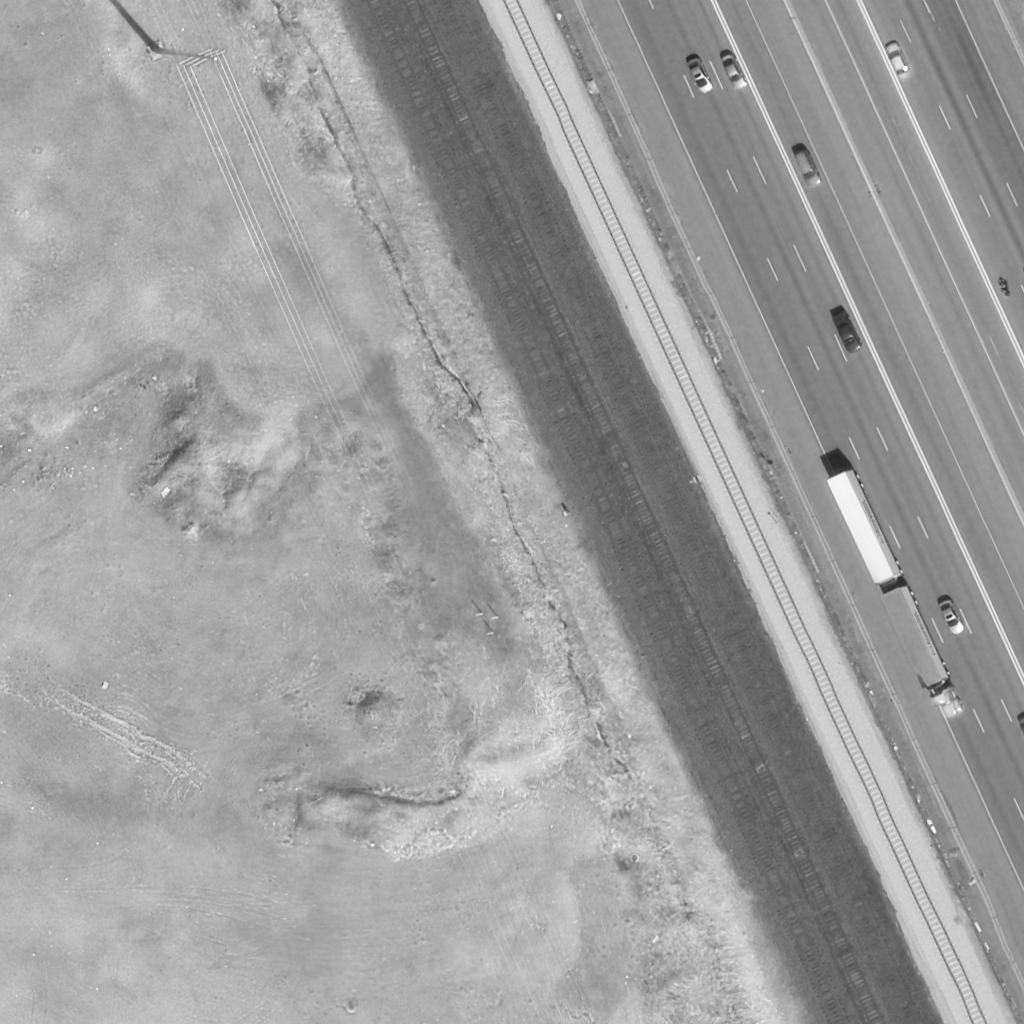vehicle: (824, 471, 968, 721), (831, 309, 863, 355), (884, 40, 912, 82), (686, 57, 714, 97), (719, 54, 747, 92), (939, 599, 967, 637), (794, 151, 822, 187), (995, 277, 1013, 297)
